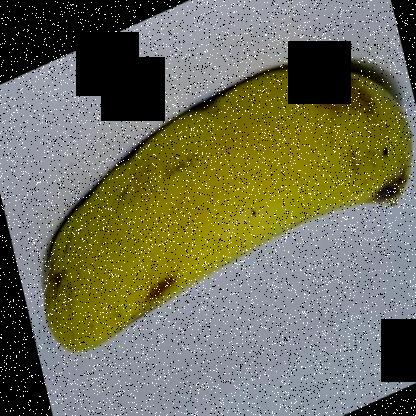freshripe: (22, 46, 415, 376)
